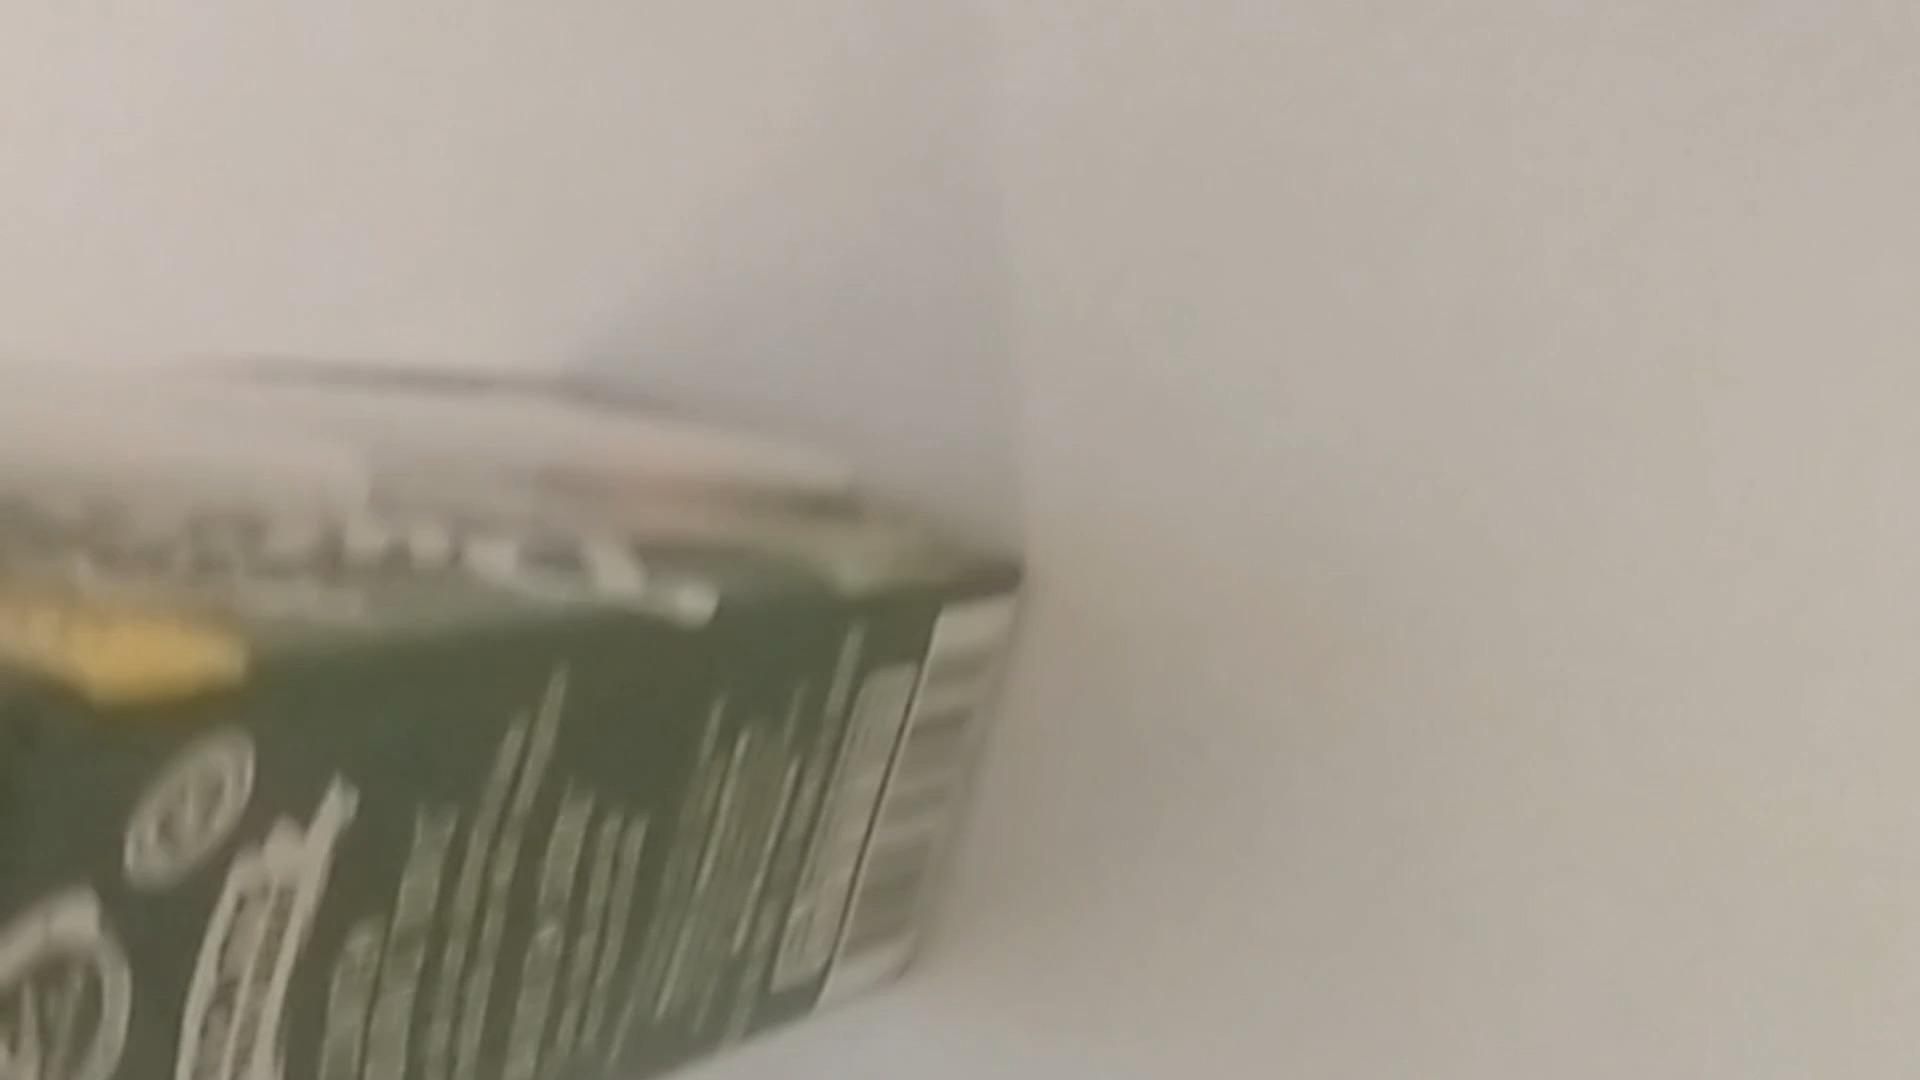coco: (0, 343, 1035, 1080)
